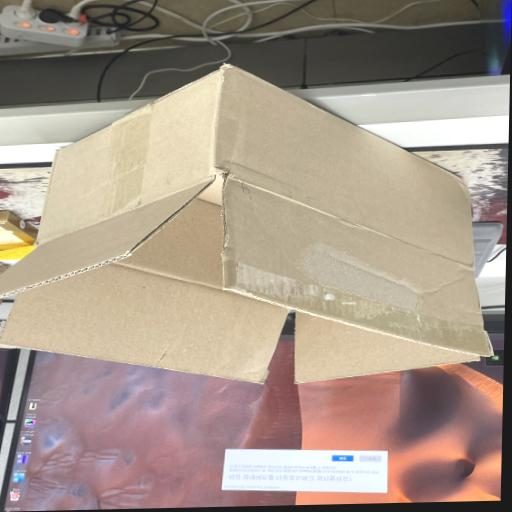box: (1, 63, 495, 387)
opened: (1, 173, 495, 387)
